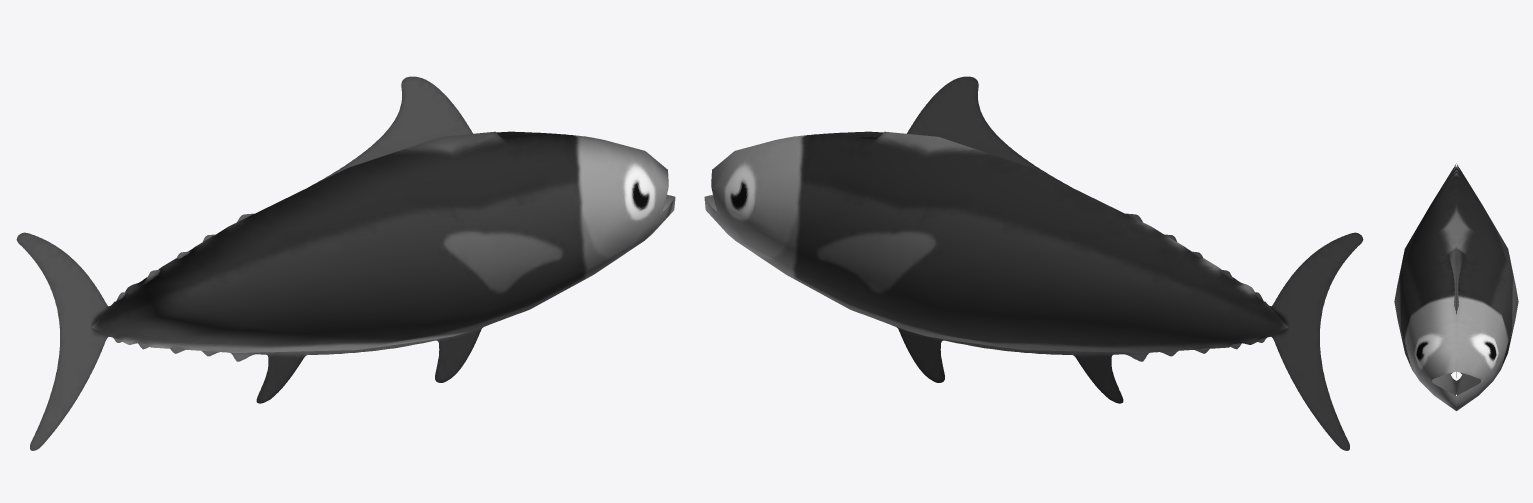
File: fishy.fbx
3 views of the same model, side by side, from view 1: azimuth 30°, elevation 25°; view 2: azimuth 150°, elevation 25°; view 3: azimuth 270°, elevation 25° (orthographic). The views are drawn at different scales.
Visible parts, largest first — view 1: Cube, fish.png; view 2: Cube, fish.png; view 3: Cube.
Boxes of the visible parts, <box> form: Cube: <box>91,131,675,352</box>; fish.png: <box>16,76,492,450</box>; Cube: <box>704,131,1288,352</box>; fish.png: <box>859,76,1363,450</box>; Cube: <box>1394,163,1518,410</box>.
Size of the model in its own units: 111 by 511 by 234.
